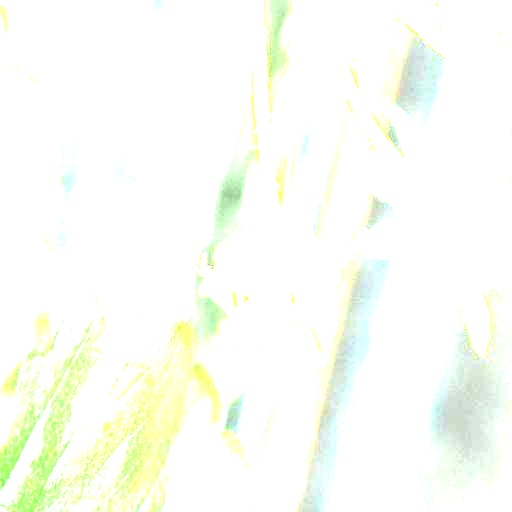Gray Mold: (217, 213, 367, 381)
